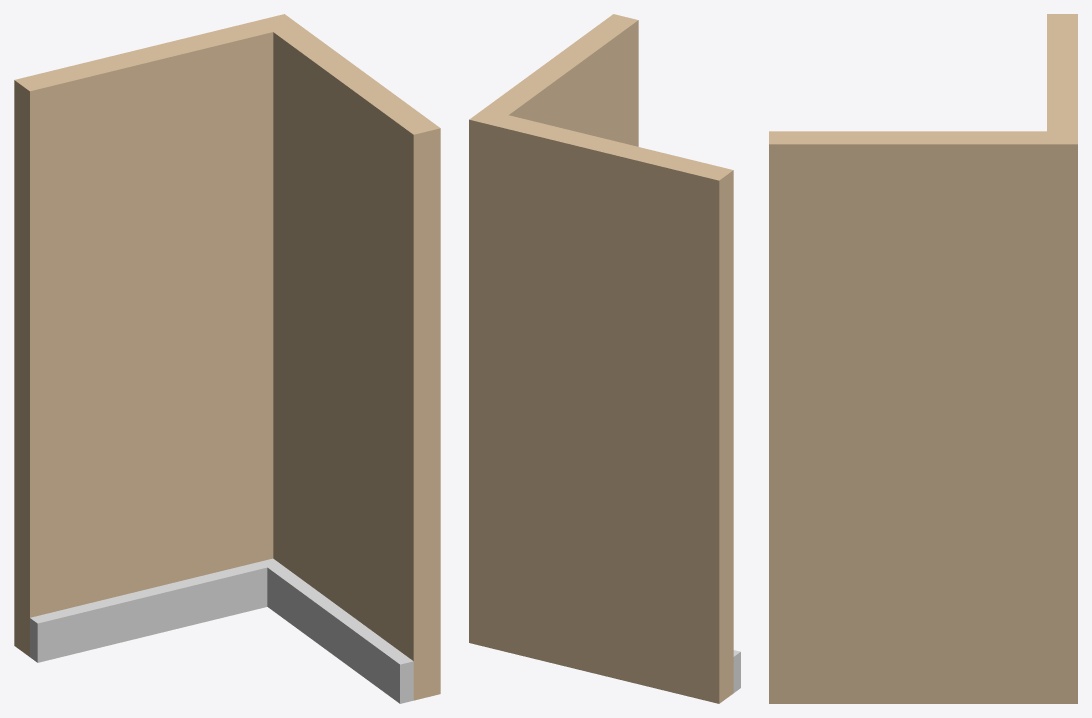
File: Ecke(außen).fbx
3 renders of one model, left to right at view 1: azimuth 30°, elevation 25°; view 2: azimuth 150°, elevation 25°; view 3: azimuth 270°, elevation 25°, orthographic. The views are drawn at different scales.
Parts seen in each view (by area): view 1: Ecke(außen); view 2: Ecke(außen); view 3: Ecke(außen).
Part boxes in pixels (bbox=[...]): Ecke(außen): bbox=[14, 14, 440, 703]; Ecke(außen): bbox=[469, 14, 740, 703]; Ecke(außen): bbox=[769, 14, 1077, 703].
Bounding box in the file's own units: 200 × 400 × 200.
